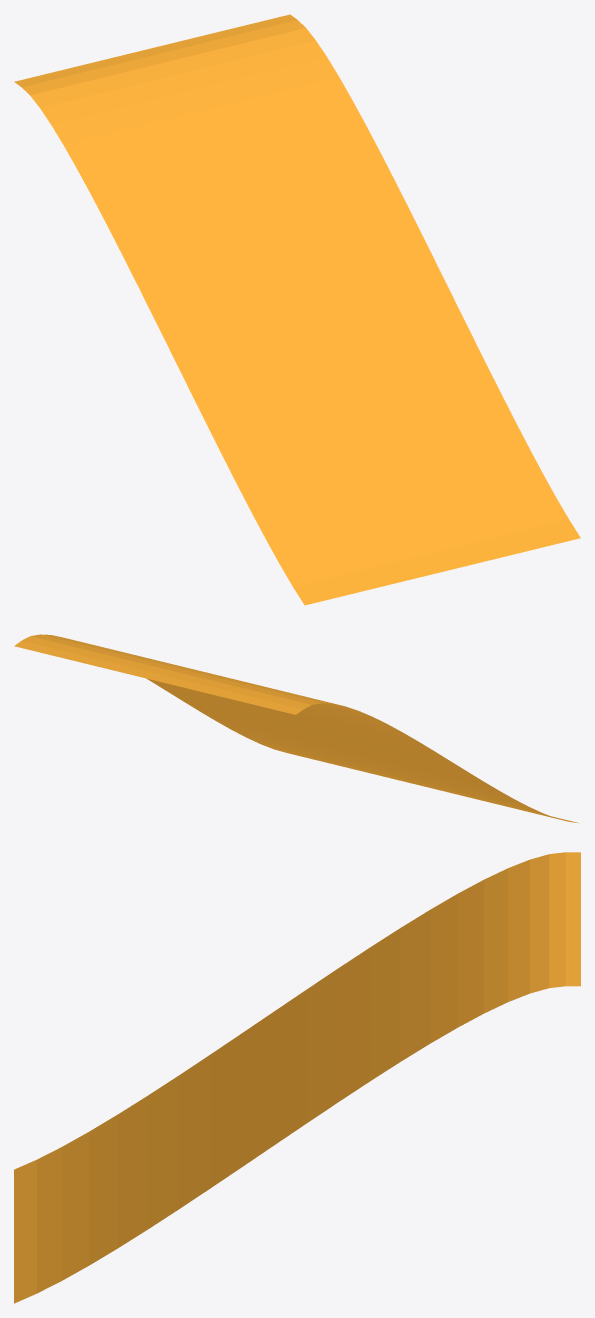
Rendered from worldMesh.obj.
The picture shows the model from 3 angles, top to bottom: view 1: azimuth 30°, elevation 25°; view 2: azimuth 150°, elevation 25°; view 3: azimuth 270°, elevation 25°; orthographic projection. The views are drawn at different scales.
Visible parts, largest first — view 1: Plane.001; view 2: Plane.001; view 3: Plane.001.
Part boxes in pixels (x1,y1,x2,y2): Plane.001: [14, 14, 580, 605]; Plane.001: [14, 634, 578, 823]; Plane.001: [14, 852, 580, 1303].
Size of what is drawn, in the model's own units: 2.04 by 2.19 by 3.58.
1 material, 1 textured.
